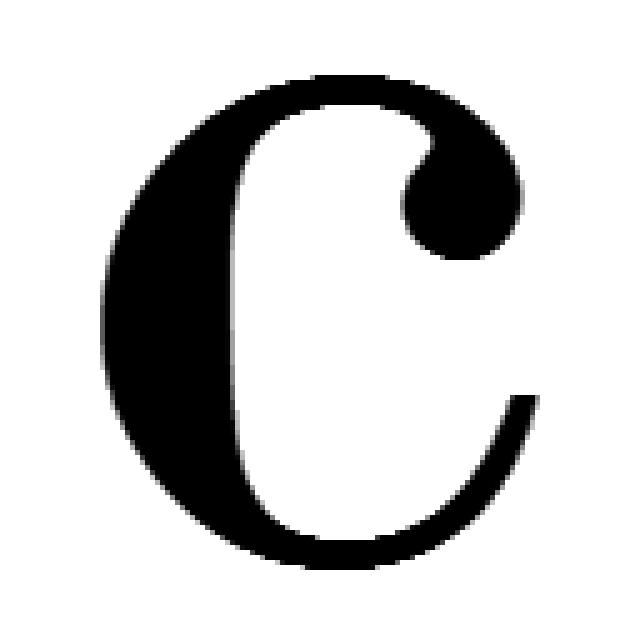C: (105, 75, 525, 570)
